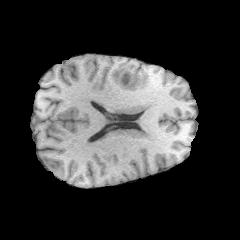glioma: (111, 60, 149, 90)
